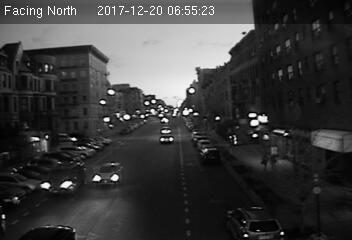car: (224, 206, 287, 240), (43, 163, 87, 196), (91, 161, 124, 185), (158, 134, 175, 143)
